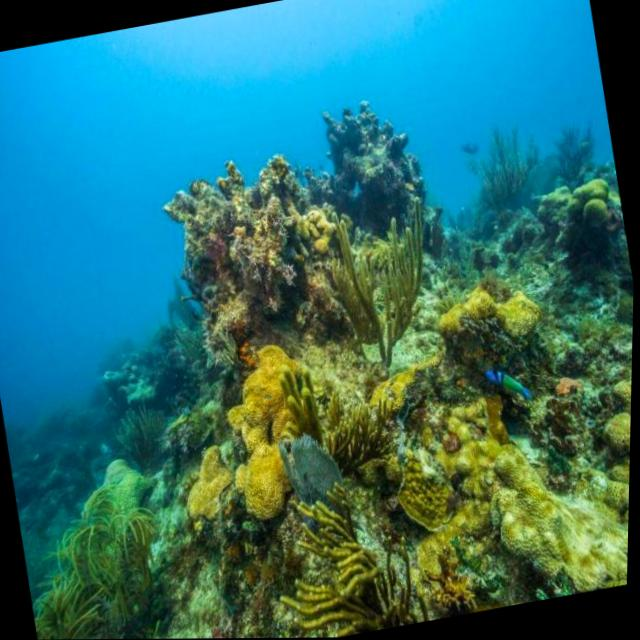Healthy Coral: (137, 49, 639, 639), (23, 452, 207, 640)
